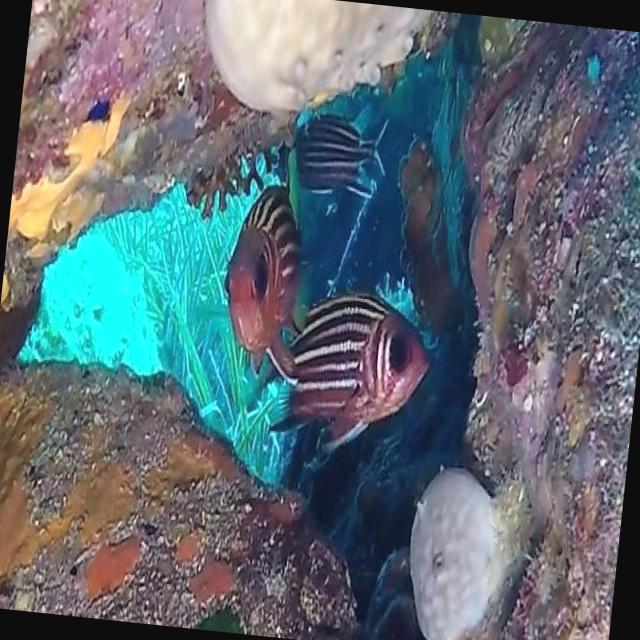Asker Baligi: (250, 266, 446, 456), (216, 138, 324, 394)
